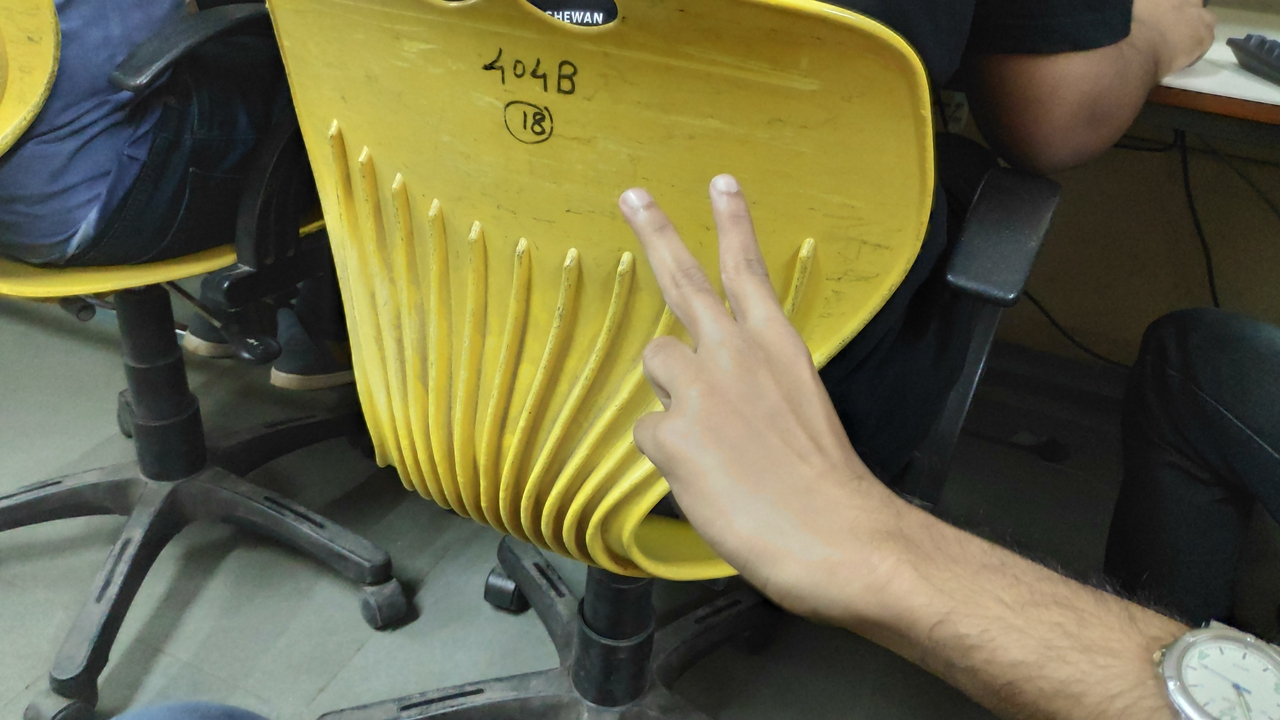fingertip: (608, 174, 668, 230), (700, 164, 752, 210)
